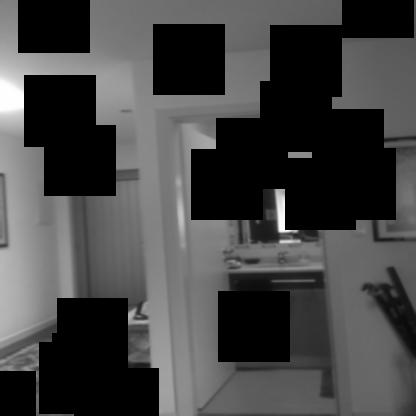Porte: (152, 95, 352, 415)
